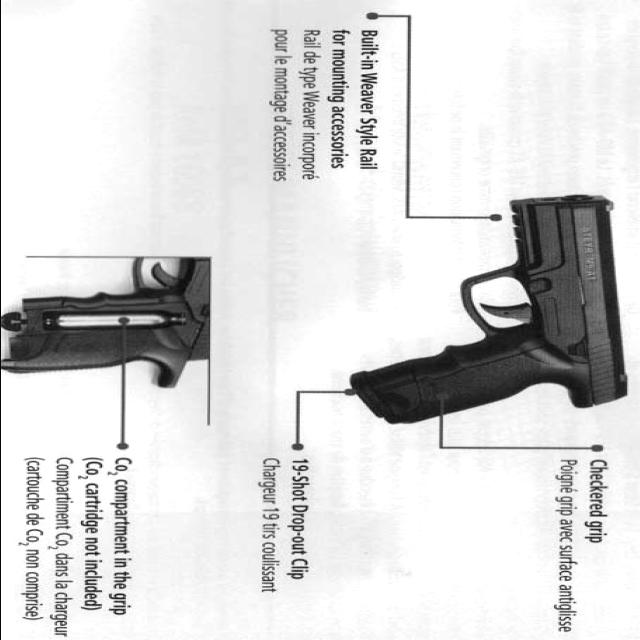handgun: (350, 194, 630, 426)
